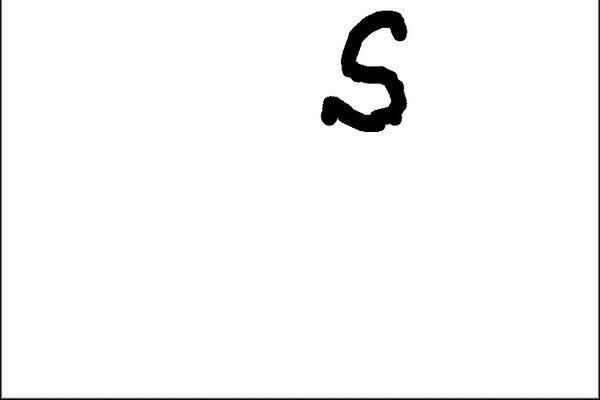S: (311, 5, 414, 144)
